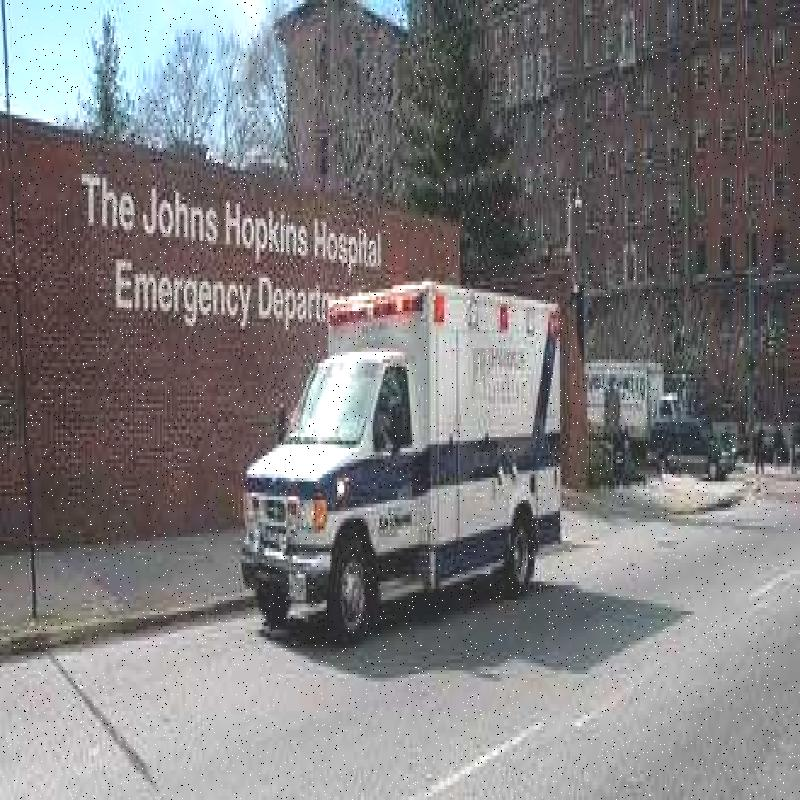AmbulanceSiren: (319, 260, 458, 360)
